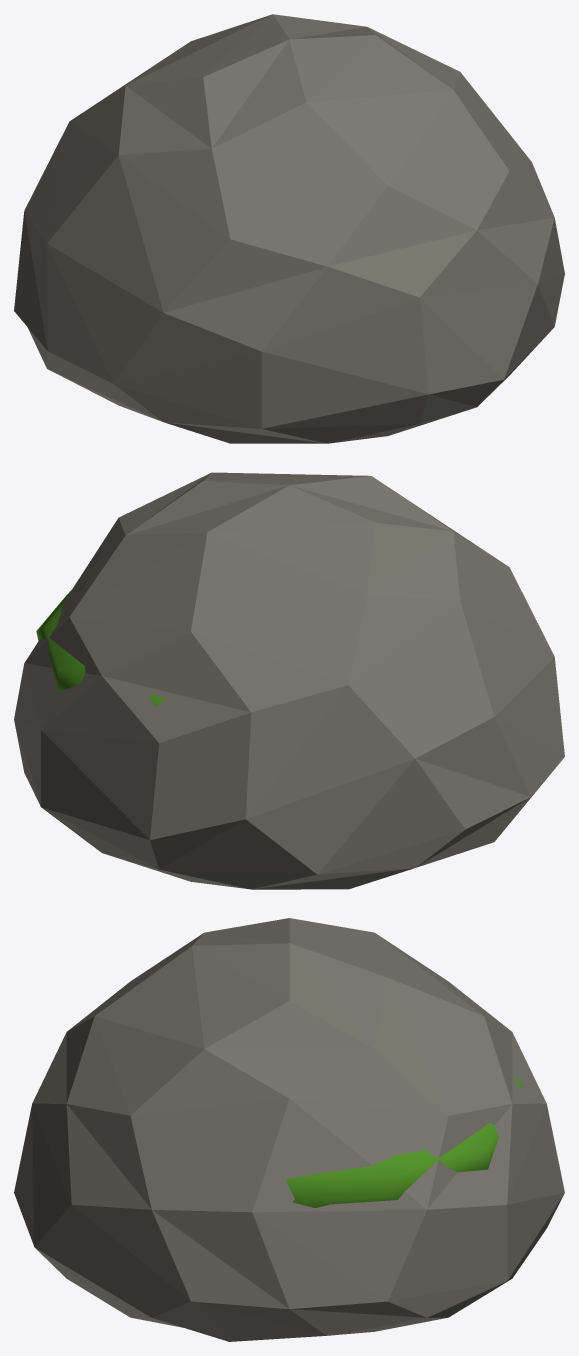
Rendered from mossy_ground_stone.glb.
3 views of the same model, one above another, from view 1: azimuth 30°, elevation 25°; view 2: azimuth 150°, elevation 25°; view 3: azimuth 270°, elevation 25° (orthographic).
Visible parts, largest first — view 1: MossyGardenStone; view 2: MossyGardenStone; view 3: MossyGardenStone.
Boxes of the visible parts, box(x1,y1,x2,y2) form: MossyGardenStone: box(14, 14, 564, 443); MossyGardenStone: box(14, 472, 564, 889); MossyGardenStone: box(14, 918, 564, 1341).
Bounding box in the file's own units: 1.5 × 1.05 × 1.5.
